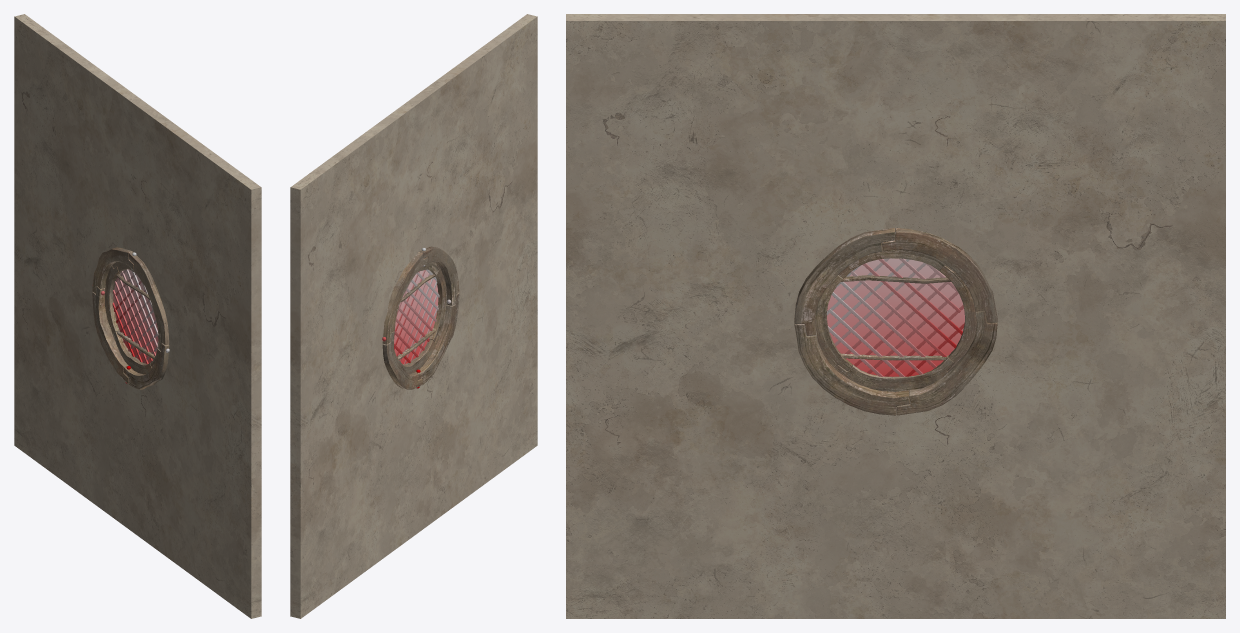
Rendered from SM_Wall_Window_03.fbx.
The picture shows the model from 3 angles, left to right: view 1: azimuth 30°, elevation 25°; view 2: azimuth 150°, elevation 25°; view 3: azimuth 270°, elevation 25°; orthographic projection. The views are drawn at different scales.
Visible parts, largest first — view 1: SM_Wall_Window_03_LOD0; view 2: SM_Wall_Window_03_LOD0; view 3: SM_Wall_Window_03_LOD0.
Part boxes in pixels (x1,y1,x2,y2): SM_Wall_Window_03_LOD0: (14,14,261,618); SM_Wall_Window_03_LOD0: (290,14,537,618); SM_Wall_Window_03_LOD0: (566,14,1225,618).
Size of the model in its own units: 22.62 by 400 by 400.
